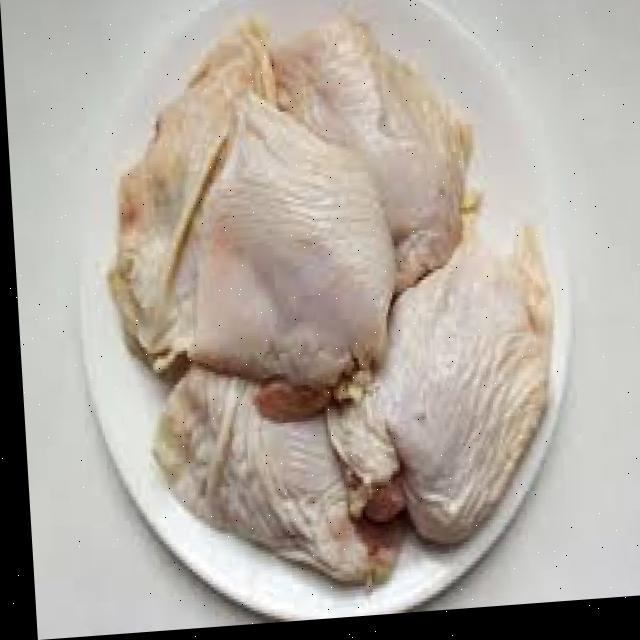thigh: (84, 49, 397, 388), (340, 218, 570, 556)
